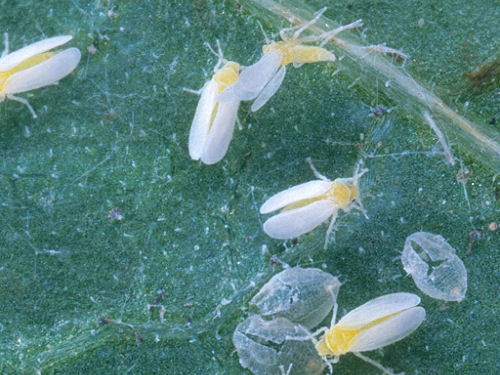whitefly: (284, 284, 429, 374), (259, 156, 369, 251), (240, 21, 337, 113), (185, 38, 251, 164), (0, 33, 82, 97)
